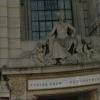Statue: (38, 5, 82, 60)
